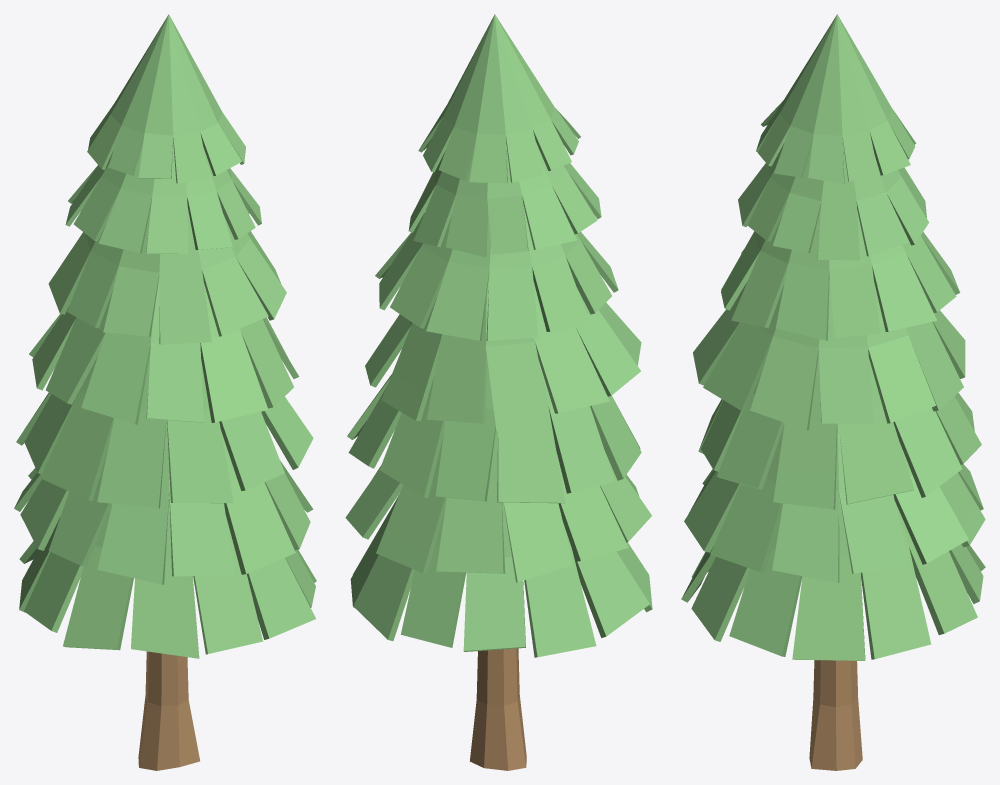
File: tree007.gltf
3 renders of one model, left to right at view 1: azimuth 30°, elevation 25°; view 2: azimuth 150°, elevation 25°; view 3: azimuth 270°, elevation 25°, orthographic.
Parts seen in each view (by area): view 1: node_tree007_-198476; view 2: node_tree007_-198476; view 3: node_tree007_-198476.
Part boxes in pixels (<box>): node_tree007_-198476: <box>14,14,316,770</box>; node_tree007_-198476: <box>345,14,652,770</box>; node_tree007_-198476: <box>681,14,985,770</box>.
Size of the model in its own units: 3.04 by 8.19 by 3.02.
